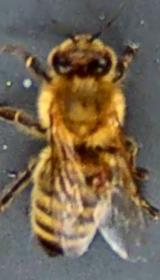varroa_mite: (86, 164, 110, 197)
